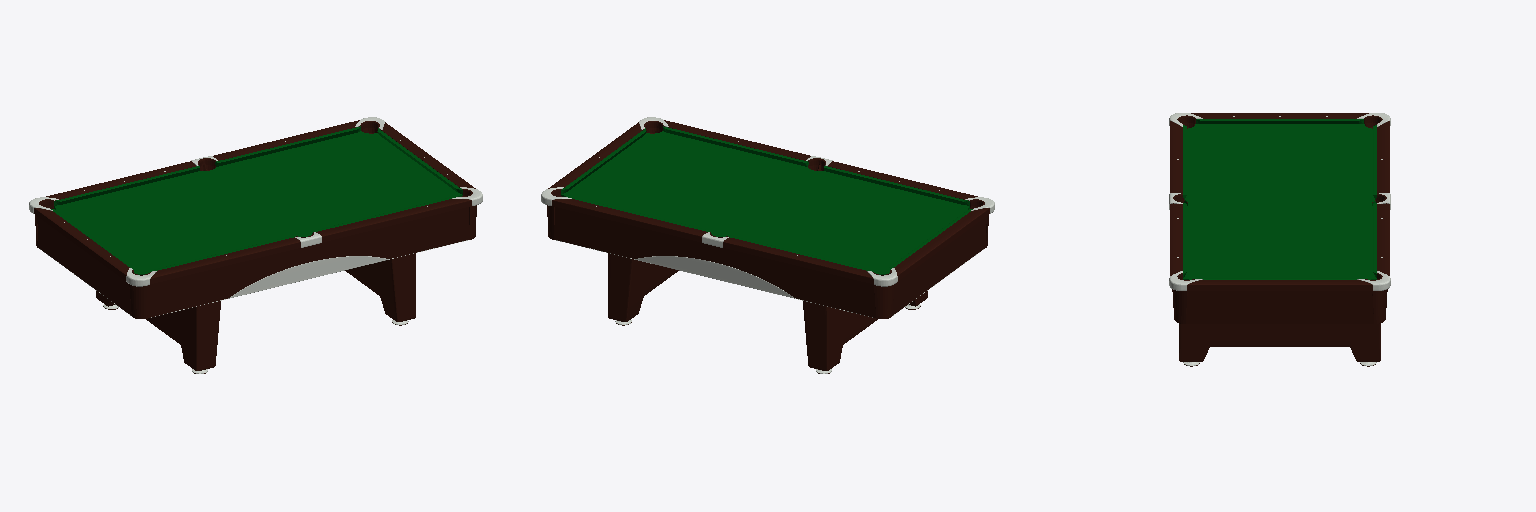
The model's file is pool.obj.
3 views of the same model, side by side, from view 1: azimuth 30°, elevation 25°; view 2: azimuth 150°, elevation 25°; view 3: azimuth 270°, elevation 25° (orthographic).
Visible parts, largest first — view 1: poolTable:Mesh; view 2: poolTable:Mesh; view 3: poolTable:Mesh.
Boxes of the visible parts, <box> form: poolTable:Mesh: <box>29,117,482,373</box>; poolTable:Mesh: <box>541,117,994,373</box>; poolTable:Mesh: <box>1169,113,1390,366</box>.
Size of the model in its own units: 256 by 80.91 by 139.